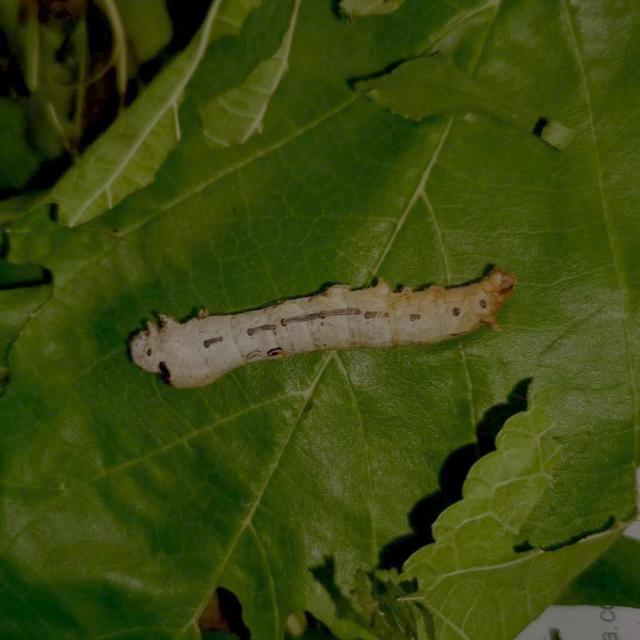Grasserie: (111, 223, 522, 406)
